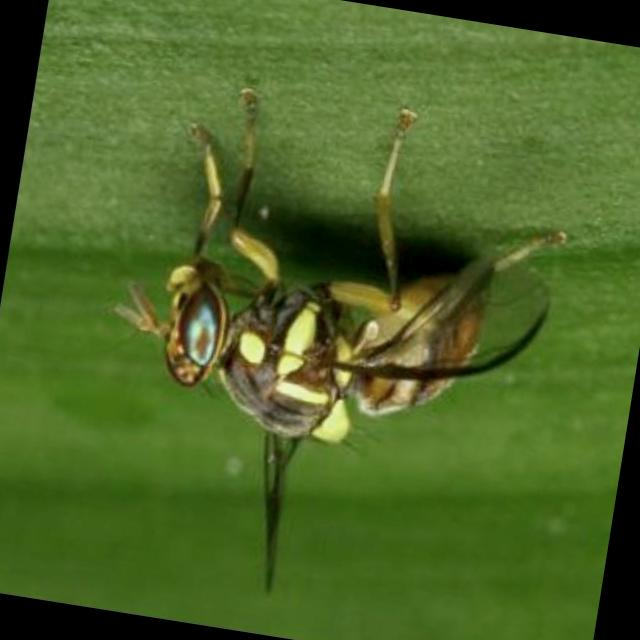melon fly: (14, 29, 581, 638)
